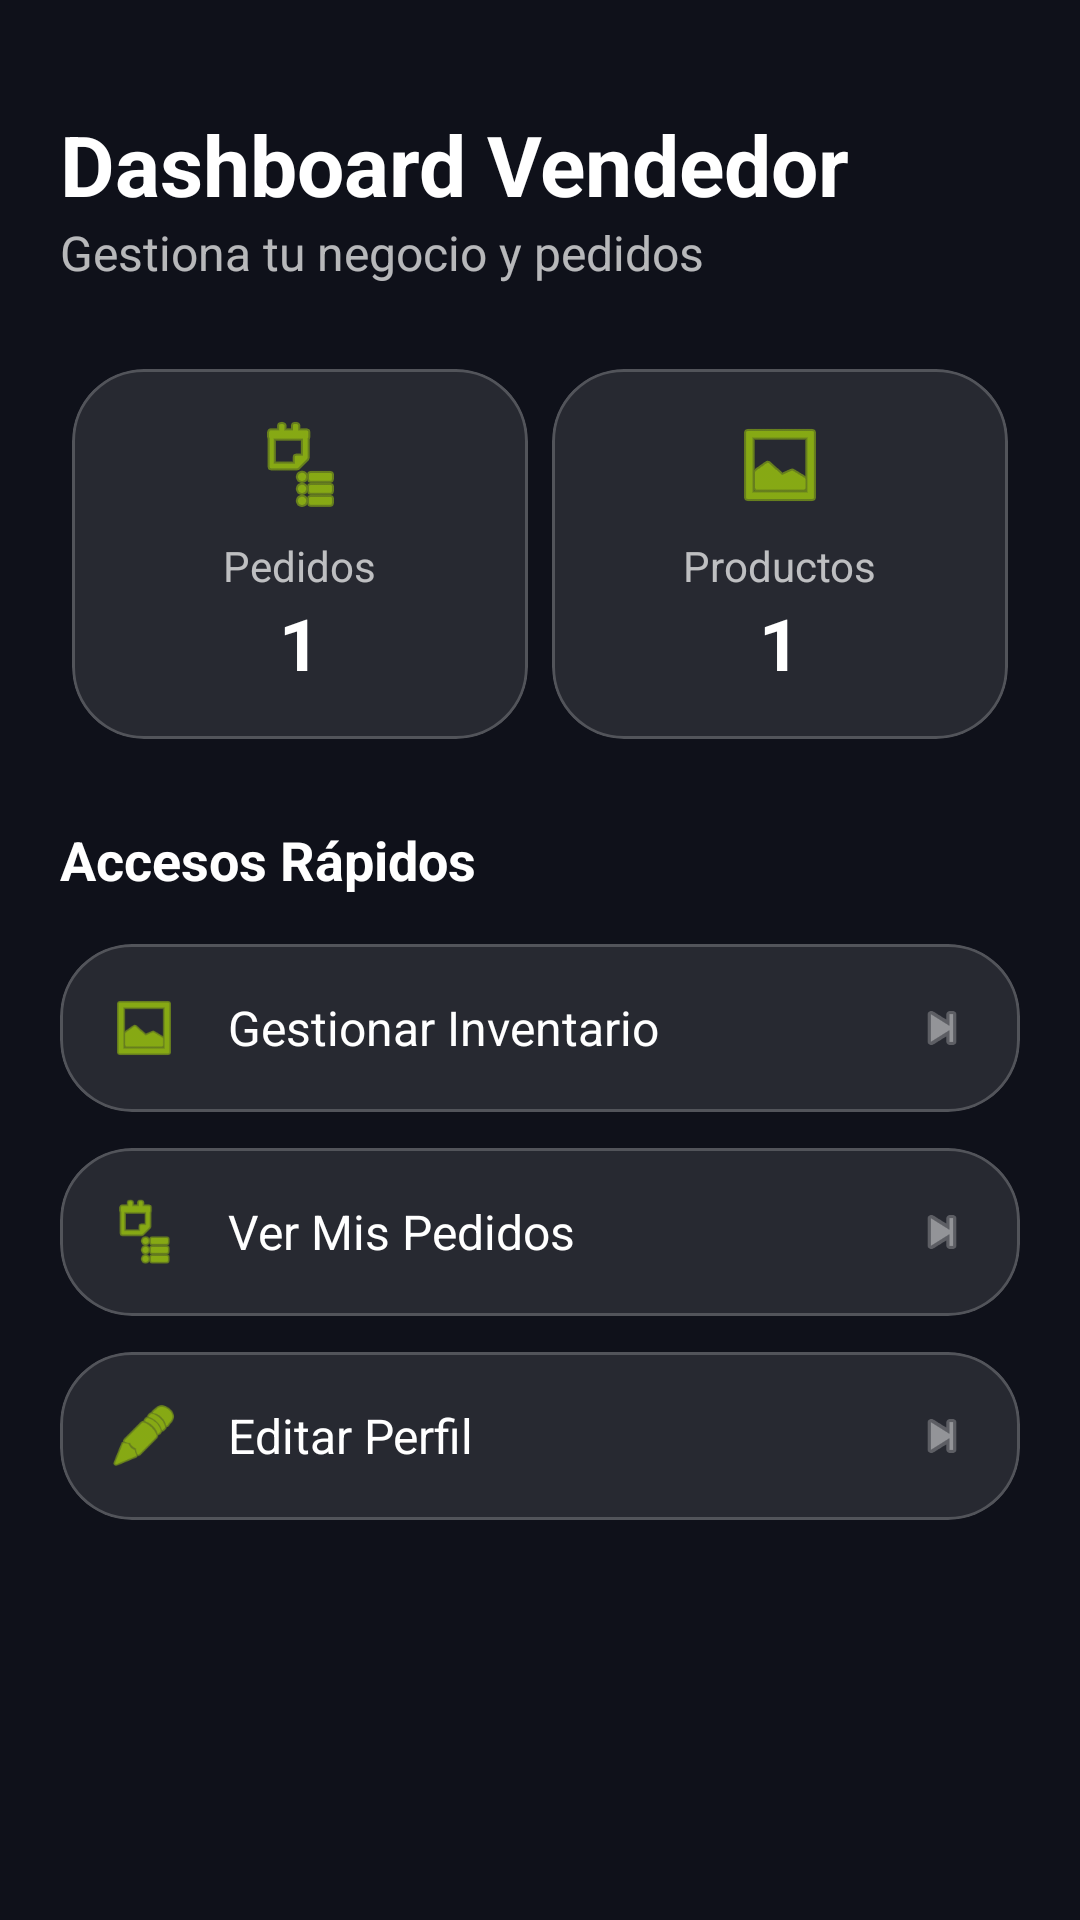

Screen size 1080×1920. Icon name, then its center in pixels as (x=x, y=y):
agenda: (x=300, y=464), (x=144, y=1232)
gallery: (x=780, y=465), (x=144, y=1028)
